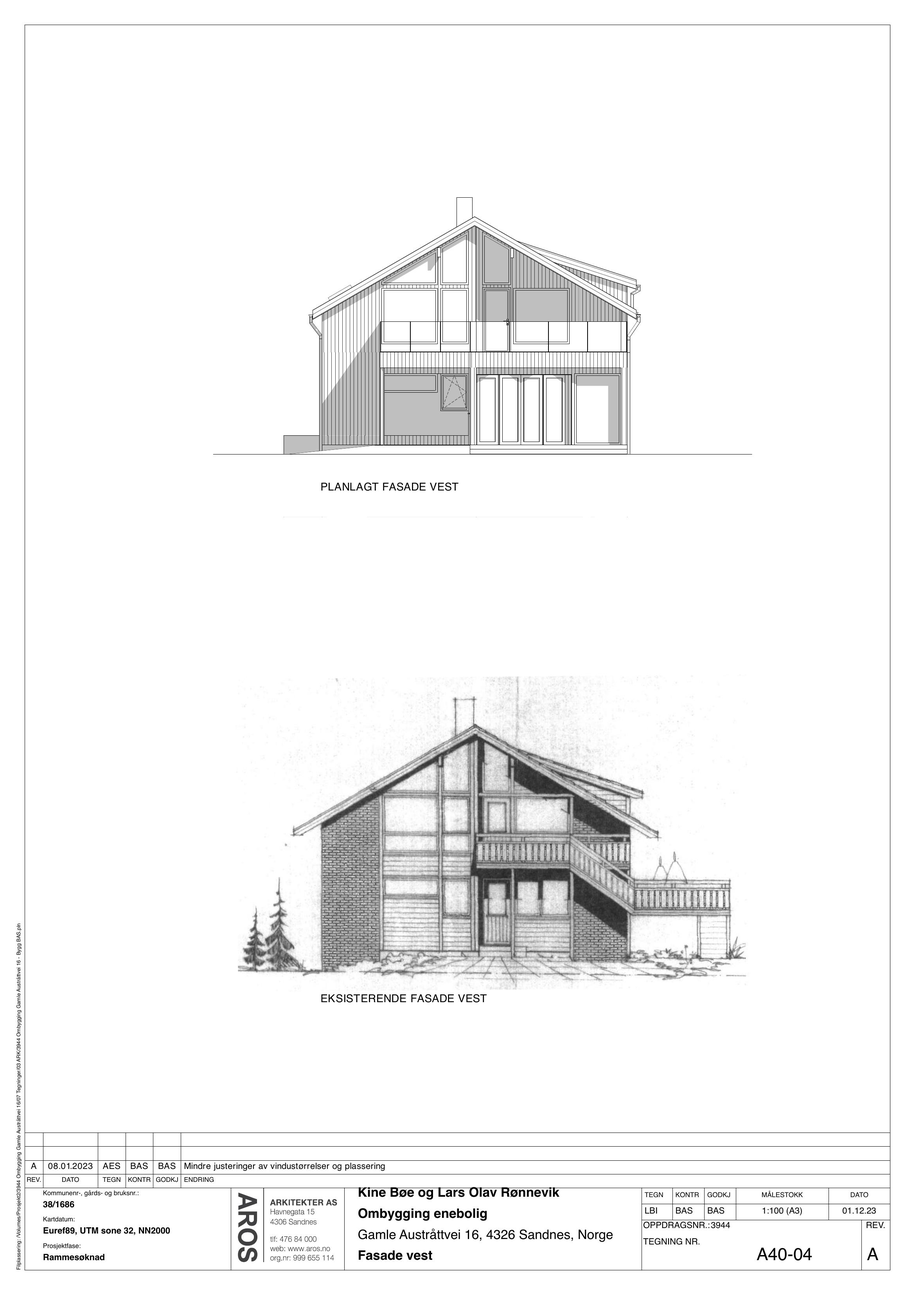fasade: (289, 694, 735, 984), (281, 195, 644, 468)
